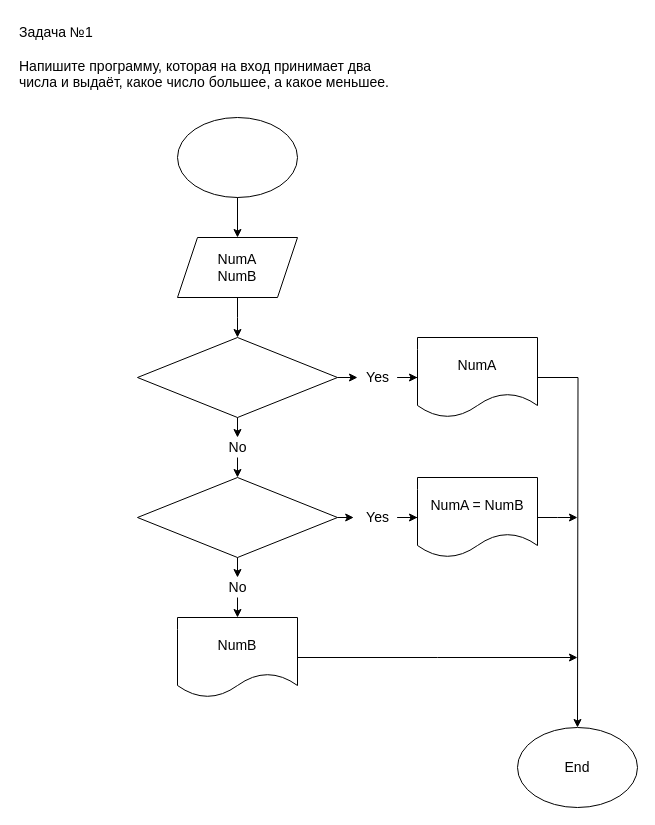
This 655x825 diagram has some shape labels left out. The centre of each missing label's shape, as x and y in pixels:
NumA==NumB: the point at 237,517
NumA>NumB: the point at 237,377
Start: the point at 237,157
